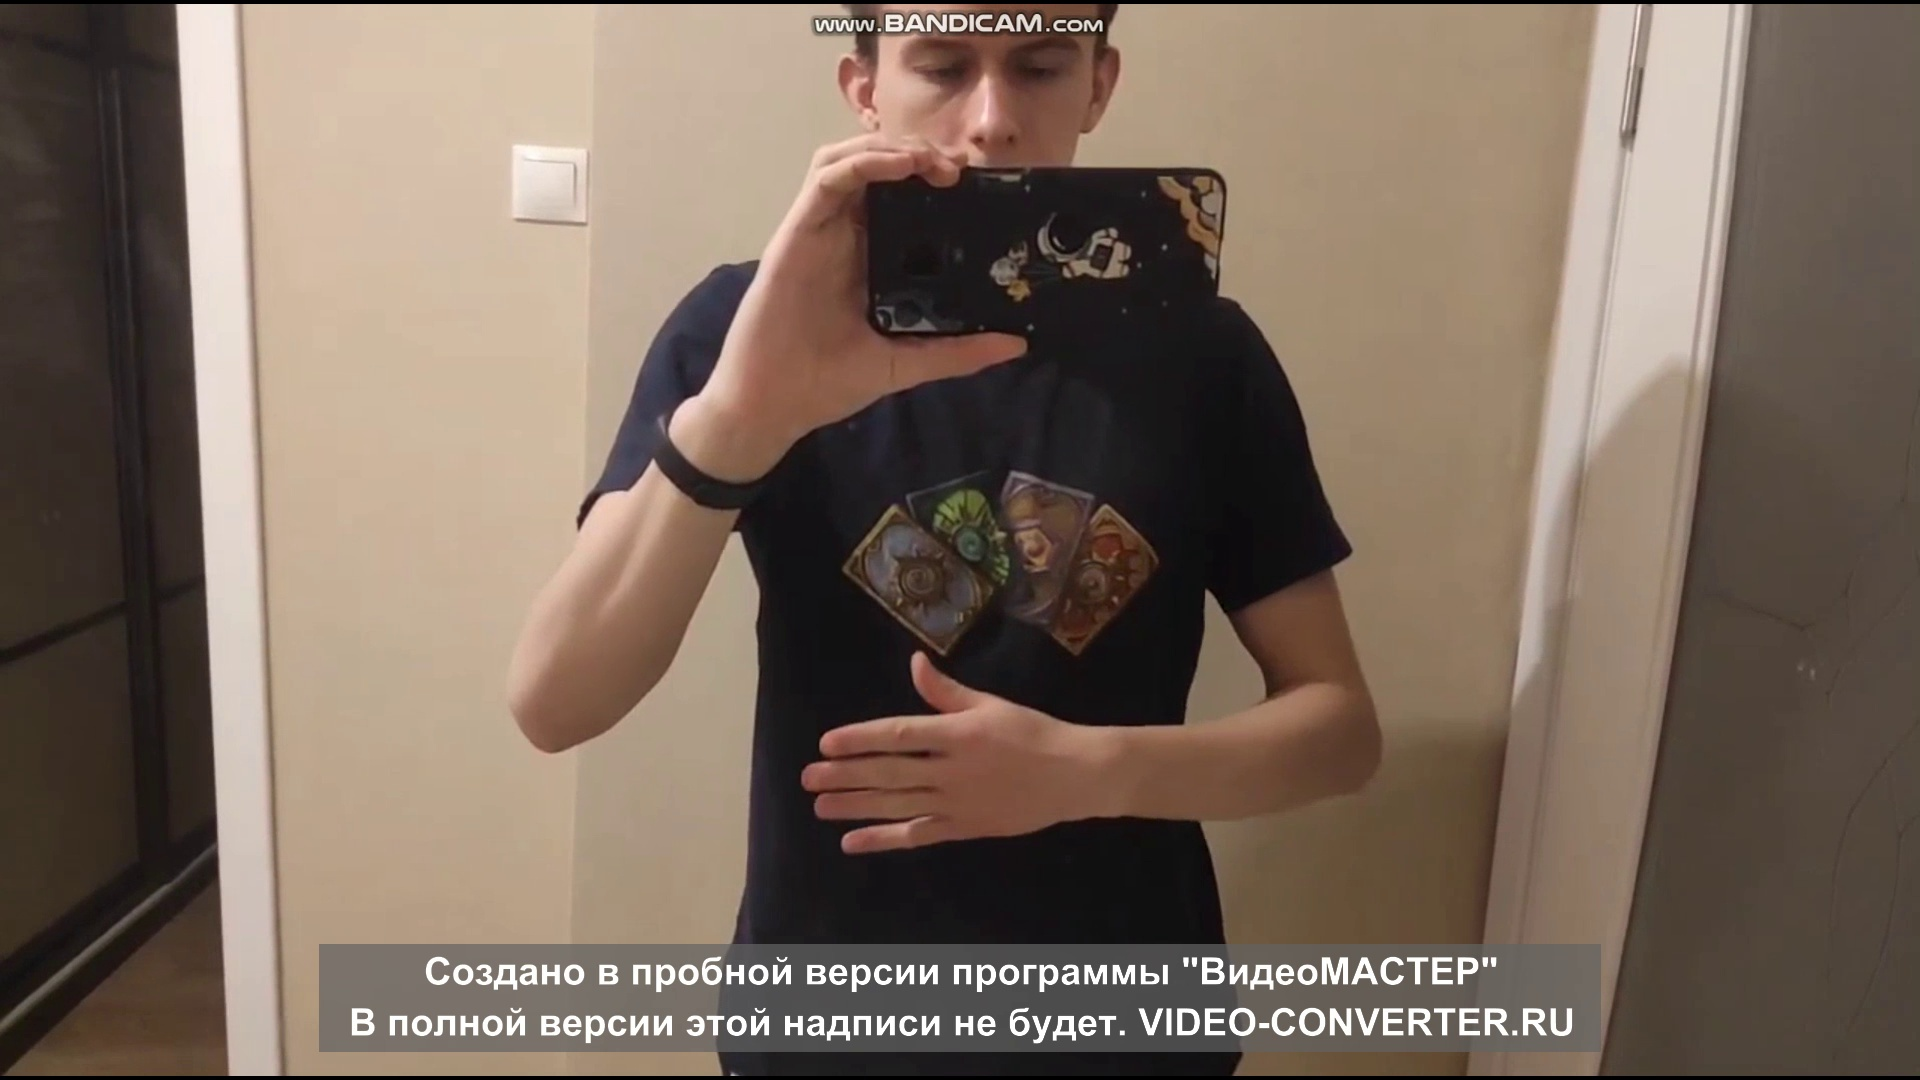Кисть: (795, 645, 1069, 851)
